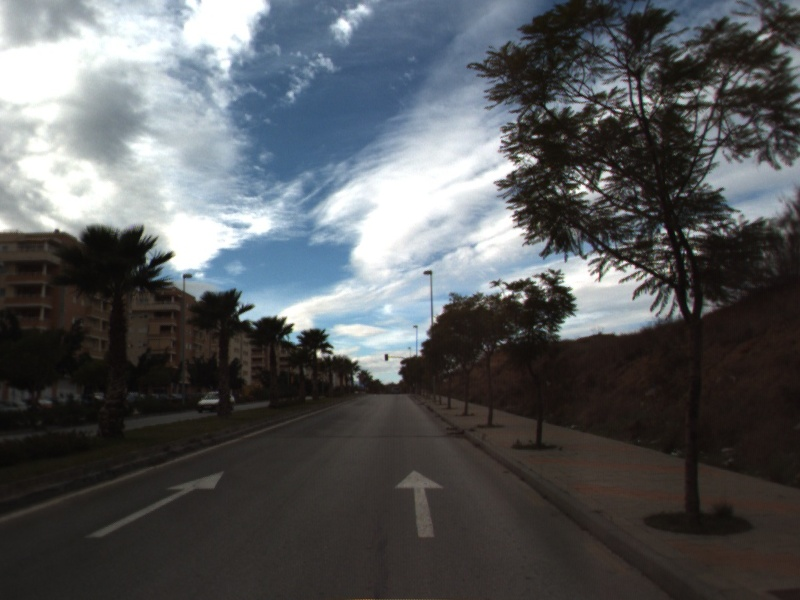STRAIGHT: (83, 469, 226, 540), (393, 468, 447, 539)
